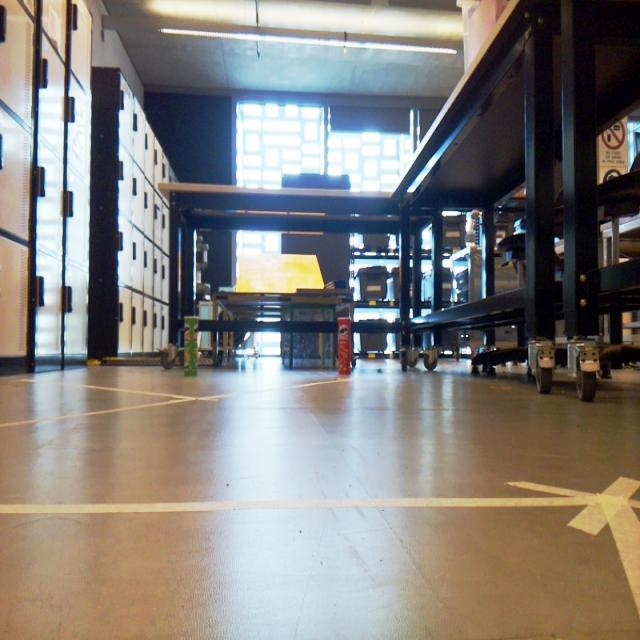greenpringles: (175, 308, 210, 386)
redpringles: (328, 304, 359, 381)
